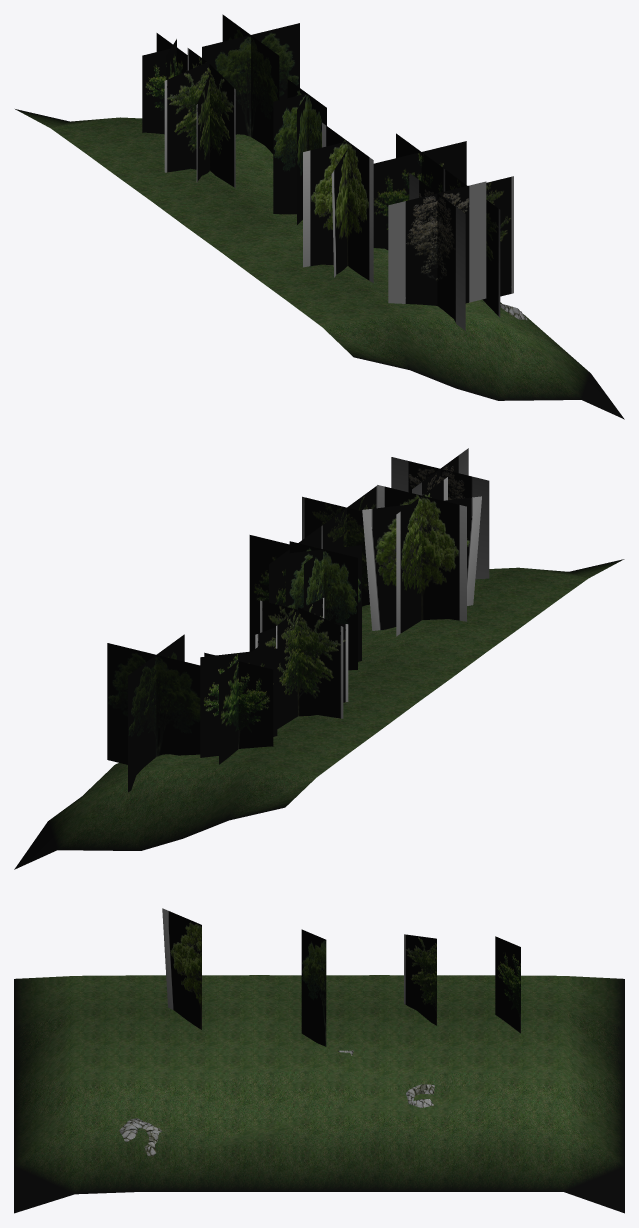
Rendered from KIN_AMB_GAKE0_L.glb.
3 views of the same model, one above another, from view 1: azimuth 30°, elevation 25°; view 2: azimuth 150°, elevation 25°; view 3: azimuth 270°, elevation 25° (orthographic). The views are drawn at different scales.
Visible parts, largest first — view 1: AMB2, bone2_5, bone2_7, bone2_0, bone2_2, bone2_3, bone2_6; view 2: AMB2, bone2_0, bone2_5, bone2_2, bone2_3, bone2_7, bone2_6; view 3: AMB2, bone2_5, bone2_2, bone2_3, bone2_0, bone2_6.
Boxes of the visible parts, box(x1,y1,x2,y2) form: AMB2: box(15, 109, 624, 419); bone2_5: box(303, 122, 466, 282); bone2_7: box(388, 173, 486, 330); bone2_0: box(142, 14, 299, 153); bone2_2: box(164, 48, 235, 187); bone2_3: box(273, 79, 326, 224); bone2_6: box(443, 168, 527, 320); AMB2: box(14, 559, 624, 869); bone2_0: box(107, 634, 277, 792); bone2_5: box(249, 477, 481, 651); bone2_2: box(255, 598, 348, 728); bone2_3: box(285, 535, 361, 670); bone2_7: box(391, 448, 489, 579); bone2_6: box(302, 485, 377, 606); AMB2: box(14, 975, 624, 1213); bone2_5: box(162, 908, 201, 1029); bone2_2: box(404, 934, 436, 1107); bone2_3: box(301, 929, 353, 1055); bone2_0: box(495, 936, 520, 1033); bone2_6: box(119, 1118, 162, 1156).
Size of the model in its own units: 57.63 by 49.57 by 125.
Materials: 12 (12 with a texture image).
